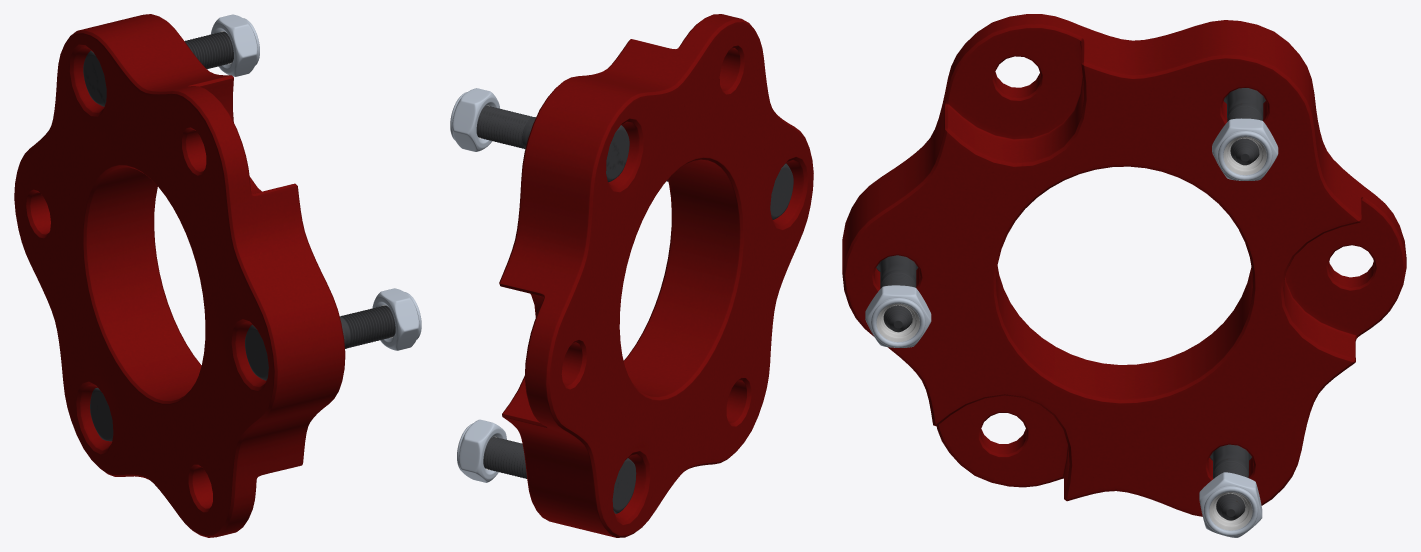
Rendered from orm-model.glb.
The picture shows the model from 3 angles, left to right: view 1: azimuth 30°, elevation 25°; view 2: azimuth 150°, elevation 25°; view 3: azimuth 270°, elevation 25°; orthographic projection. The views are drawn at different scales.
Parts seen in each view (by area): view 1: ORM_Leveling_Kit.001, hex_large.002, hex_large2.002, nut4.002, nut3.002, hex_large1.002; view 2: ORM_Leveling_Kit.001, hex_large2.002, hex_large1.002, nut4.002, nut5.002, hex_large.002; view 3: ORM_Leveling_Kit.001, nut3.002, nut4.002, nut5.002, hex_large2.002, hex_large.002, hex_large1.002.
Part boxes in pixels (box(x1,y1,x2,y2)): ORM_Leveling_Kit.001: box(14, 14, 345, 537); hex_large.002: box(245, 305, 395, 380); hex_large2.002: box(83, 31, 233, 106); nut4.002: box(210, 14, 259, 76); nut3.002: box(372, 288, 421, 350); hex_large1.002: box(90, 388, 113, 441); ORM_Leveling_Kit.001: box(499, 14, 813, 537); hex_large2.002: box(476, 106, 629, 182); hex_large1.002: box(483, 437, 636, 513); nut4.002: box(450, 88, 500, 151); nut5.002: box(457, 419, 506, 482); hex_large.002: box(667, 163, 793, 219); ORM_Leveling_Kit.001: box(842, 14, 1406, 516); nut3.002: box(865, 285, 931, 347); nut4.002: box(1212, 118, 1278, 180); nut5.002: box(1199, 472, 1262, 537); hex_large2.002: box(1224, 88, 1265, 165); hex_large.002: box(876, 255, 917, 332); hex_large1.002: box(1209, 444, 1251, 520).
Size of the model in its own units: 0.7907 by 2.04 by 2.22.
Materials: 1 (1 with a texture image).
